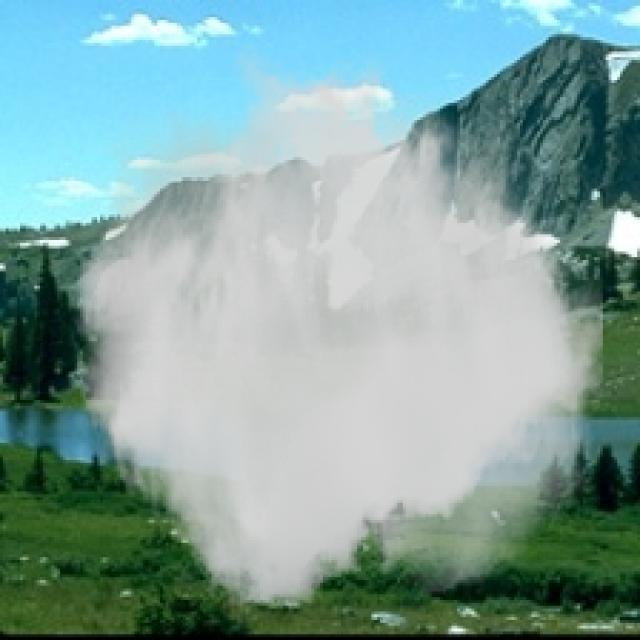Smoke: (68, 40, 603, 606)
